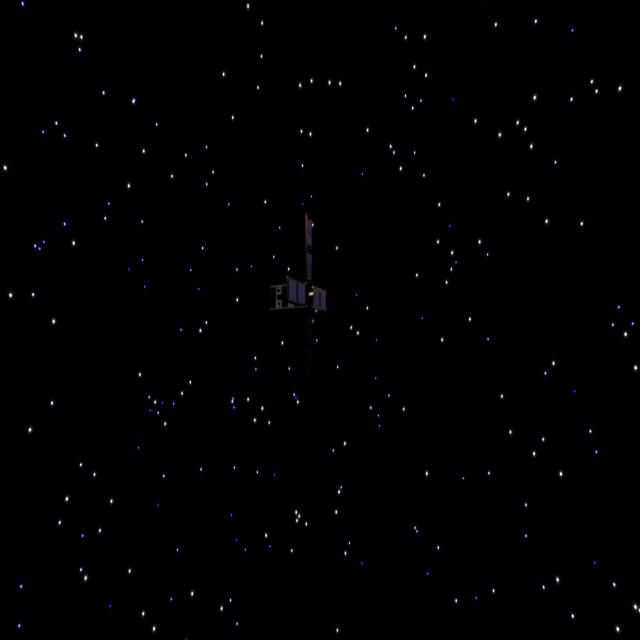medium_debris: (261, 207, 340, 330)
